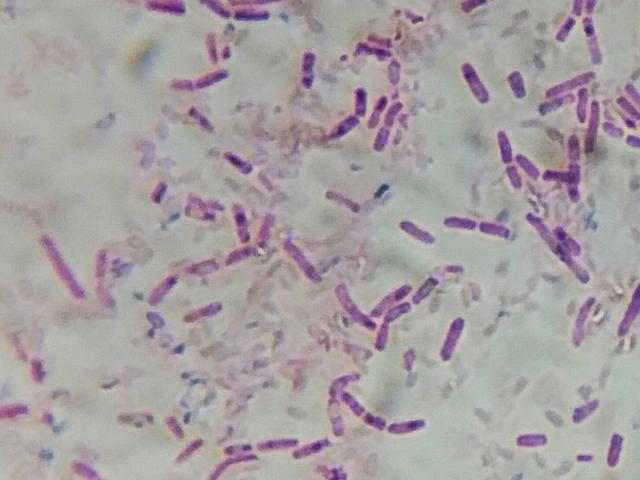E. coli: (40, 232, 82, 301), (280, 231, 317, 287), (452, 53, 489, 109), (331, 282, 369, 332), (491, 128, 518, 196), (377, 306, 415, 354), (565, 291, 595, 344), (345, 391, 383, 432), (170, 71, 236, 94), (617, 270, 640, 335), (226, 198, 255, 244), (93, 240, 113, 306), (324, 184, 362, 218), (396, 214, 434, 248), (439, 314, 468, 358), (173, 435, 206, 473), (553, 220, 586, 258), (584, 16, 609, 66), (507, 425, 550, 454), (564, 391, 600, 425), (525, 212, 557, 250), (144, 272, 179, 305), (553, 250, 588, 282), (212, 457, 260, 480), (603, 425, 627, 469), (179, 299, 224, 322), (543, 71, 594, 91), (220, 151, 254, 181), (144, 0, 184, 24), (325, 386, 344, 436), (200, 26, 225, 63), (586, 100, 604, 151), (440, 210, 474, 235), (327, 118, 357, 146), (504, 67, 529, 100), (302, 51, 322, 92), (163, 411, 189, 442), (479, 215, 512, 239), (374, 282, 409, 304), (296, 437, 328, 461), (225, 5, 273, 21), (198, 0, 237, 19), (258, 433, 299, 451), (571, 159, 588, 202), (534, 94, 567, 116), (392, 415, 423, 438), (30, 354, 49, 390), (572, 85, 590, 123), (514, 152, 536, 183), (381, 101, 408, 126), (186, 106, 214, 130), (367, 94, 387, 127), (349, 84, 369, 116), (616, 97, 640, 123), (233, 246, 262, 267), (372, 123, 391, 155), (0, 395, 24, 419), (72, 457, 97, 480), (417, 275, 440, 300), (259, 214, 277, 245), (554, 16, 573, 44), (188, 257, 219, 274), (223, 434, 248, 455), (546, 165, 570, 186), (450, 0, 494, 11), (386, 57, 401, 86), (329, 365, 353, 383), (565, 133, 579, 162), (360, 43, 385, 59), (603, 118, 621, 140), (626, 83, 640, 108), (580, 0, 604, 12), (626, 136, 640, 153)
